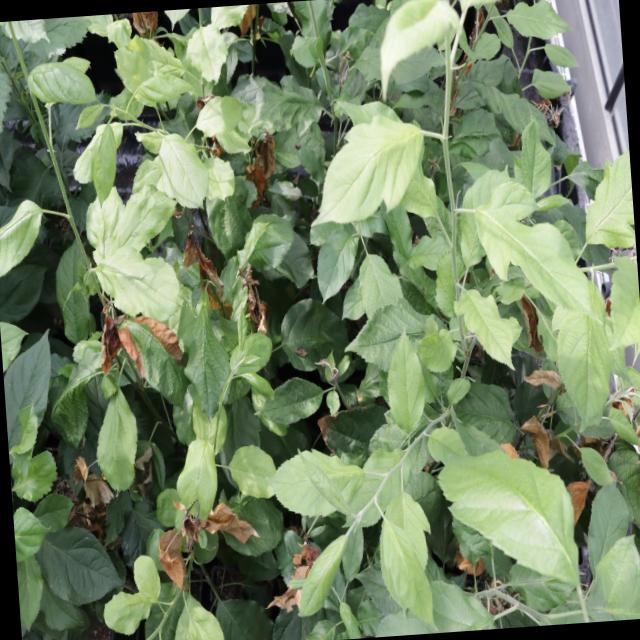-FireBlight-: (150, 509, 258, 572), (285, 544, 323, 600), (244, 147, 275, 203)
